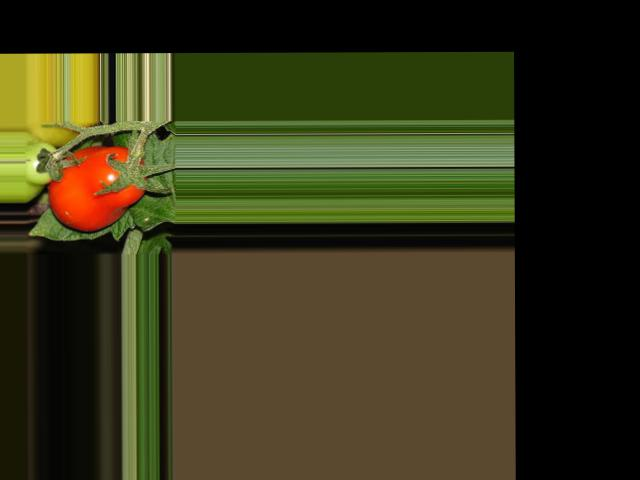tomato: (48, 146, 146, 231)
